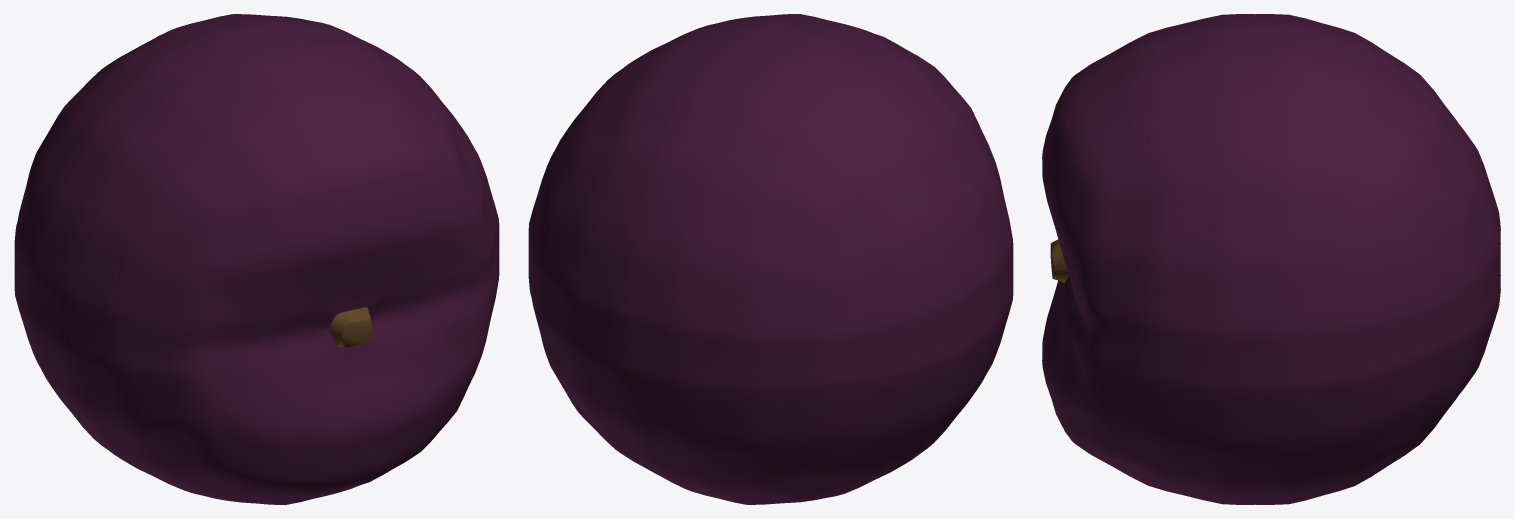
File: plum.glb
The picture shows the model from 3 angles, left to right: view 1: azimuth 30°, elevation 25°; view 2: azimuth 150°, elevation 25°; view 3: azimuth 270°, elevation 25°; orthographic projection.
Visible parts, largest first — view 1: Object_4, Object_5; view 2: Object_4; view 3: Object_4, Object_5.
Boxes of the visible parts, bbox=[...] form: Object_4: bbox=[14, 14, 499, 504]; Object_5: bbox=[329, 307, 372, 347]; Object_4: bbox=[528, 14, 1013, 504]; Object_4: bbox=[1042, 14, 1500, 504]; Object_5: bbox=[1050, 239, 1068, 282].
Bounding box in the file's own units: 0.045 × 0.045 × 0.0423.
